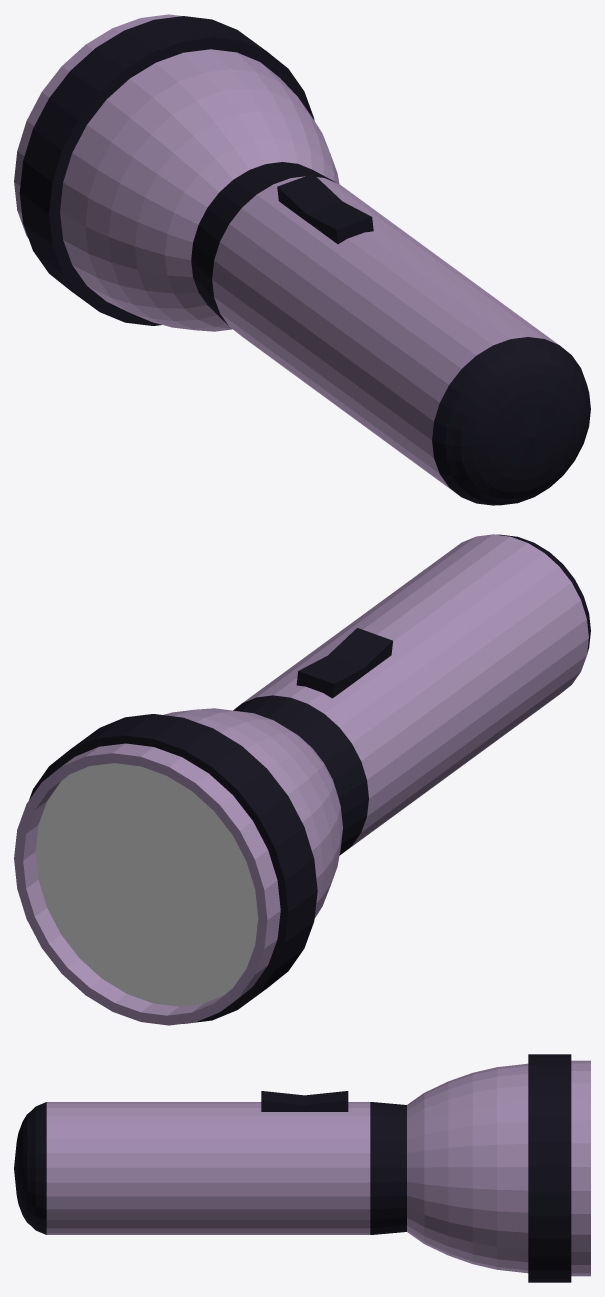
The model's file is Flashlight.fbx.
3 renders of one model, top to bottom at view 1: azimuth 30°, elevation 25°; view 2: azimuth 150°, elevation 25°; view 3: azimuth 270°, elevation 25°, orthographic. The views are drawn at different scales.
Visible parts, largest first — view 1: Flashlight; view 2: Flashlight, Glass; view 3: Flashlight.
Boxes of the visible parts, box(x1,y1,x2,y2) form: Flashlight: box(14, 14, 590, 505); Flashlight: box(14, 534, 590, 1025); Glass: box(35, 763, 258, 1006); Flashlight: box(14, 1054, 590, 1282).
Bounding box in the file's own units: 278 × 278 × 704.
